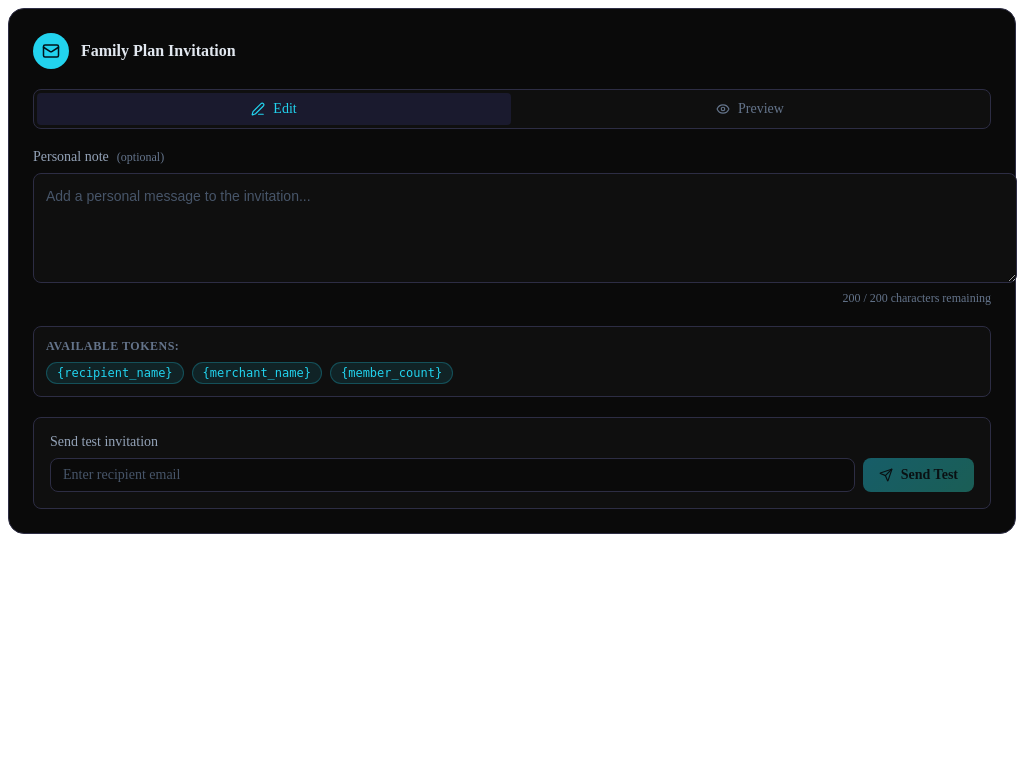
FamilyInvitationPreview › switches to preview panel when clicking Preview tab
Click the tab "Preview" at (750, 109), box [513, 93, 987, 125]
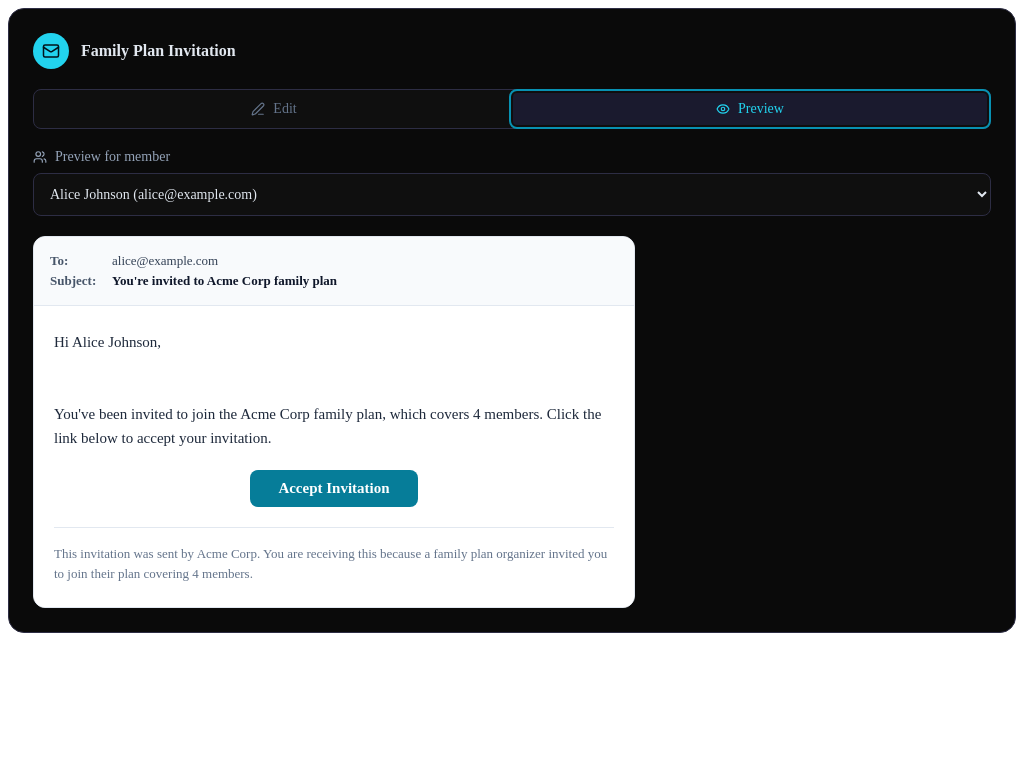
expect the panel "Preview" is shown: met, box [33, 149, 991, 608]
